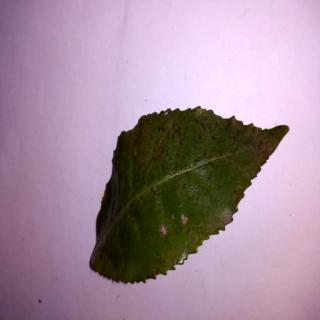Bird Eye Spot: (92, 110, 291, 285)
